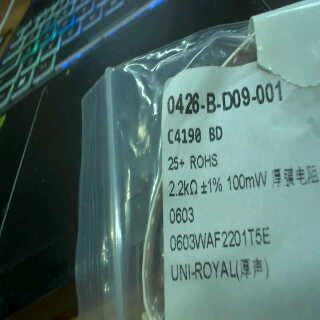2.2kR: (164, 171, 199, 201)
